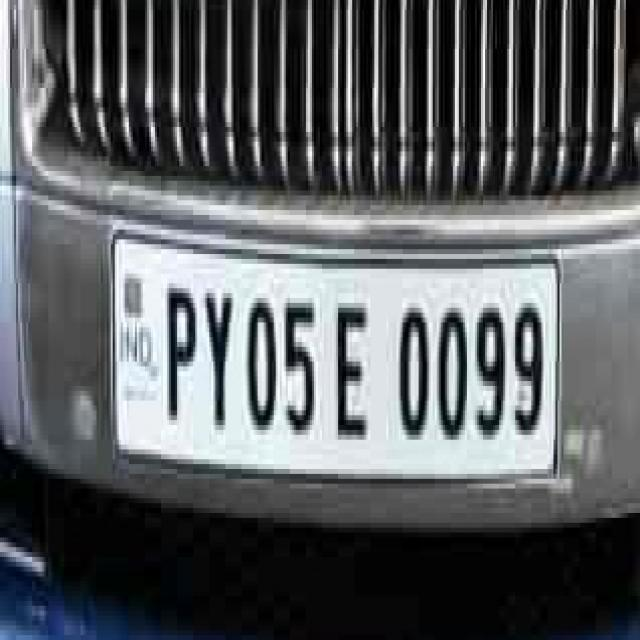0: (395, 287, 434, 449), (433, 295, 470, 462), (244, 275, 278, 442)
5: (279, 276, 321, 446)
9: (472, 287, 511, 455), (513, 295, 545, 445)
E: (331, 281, 374, 452)
P: (160, 268, 197, 424)
Y: (201, 281, 236, 447)
